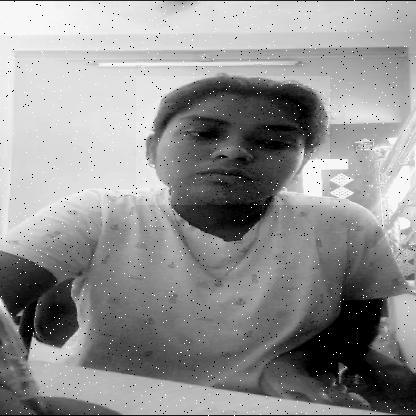Normal: (136, 76, 330, 205)
